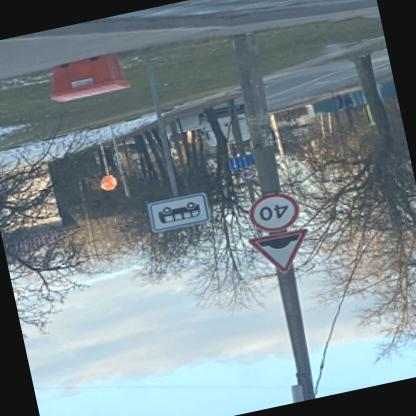speedlimit: (248, 189, 306, 237), (241, 166, 256, 182)
stop: (101, 174, 120, 191)
